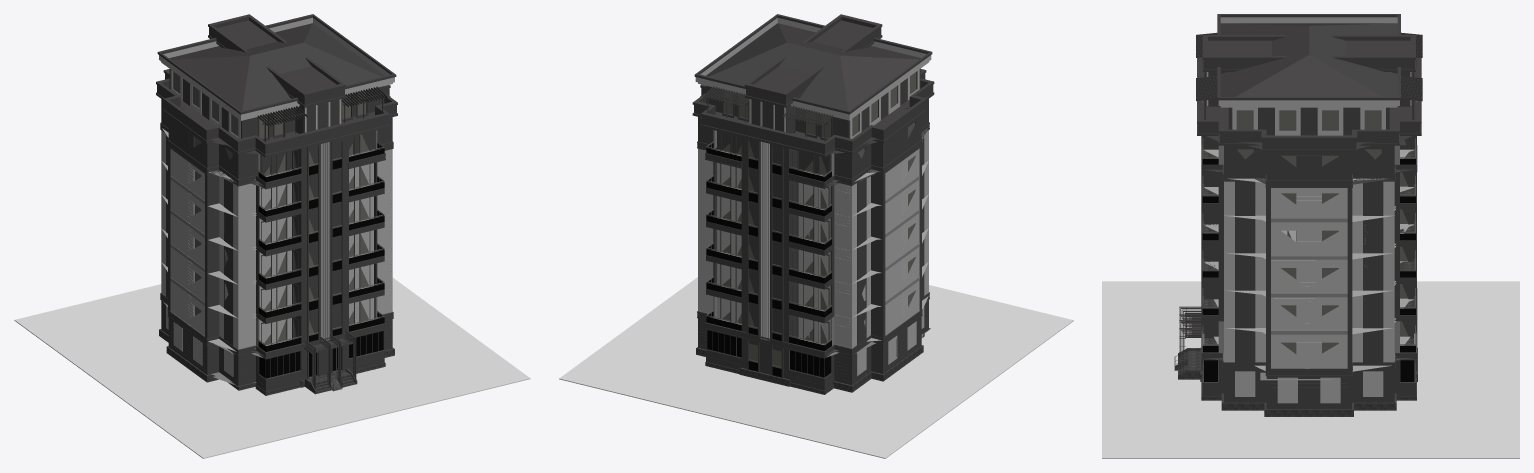
The model's file is gedung3.fbx.
The picture shows the model from 3 angles, left to right: view 1: azimuth 30°, elevation 25°; view 2: azimuth 150°, elevation 25°; view 3: azimuth 270°, elevation 25°; orthographic projection. The views are drawn at different scales.
Visible parts, largest first — view 1: Apartment Building.233, Cube; view 2: Apartment Building.233, Cube; view 3: Apartment Building.233, Cube.
Part boxes in pixels (x1=…): Apartment Building.233: x1=156, y1=14, x2=397, y2=395; Cube: x1=14, y1=278, x2=530, y2=458; Apartment Building.233: x1=692, y1=14, x2=934, y2=394; Cube: x1=559, y1=277, x2=1073, y2=458; Apartment Building.233: x1=1174, y1=14, x2=1422, y2=416; Cube: x1=1102, y1=281, x2=1519, y2=458.
Bounding box in the file's own units: 11676 × 10247 × 11676.
